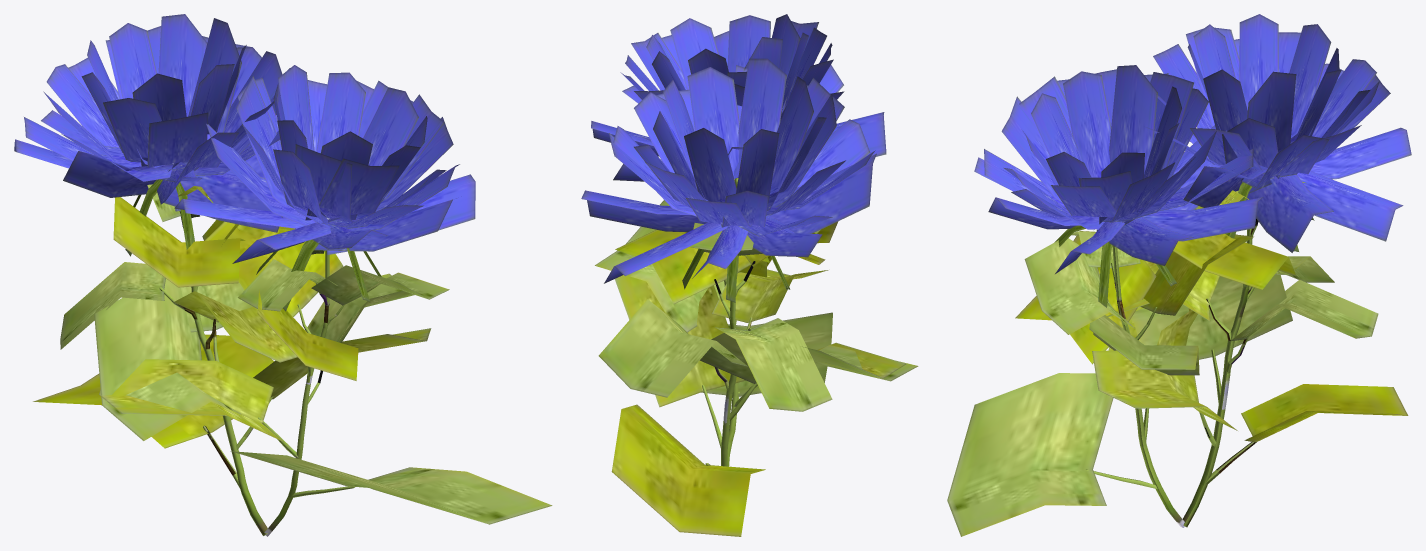
Rendered from blue_flower2.FBX.
3 views of the same model, side by side, from view 1: azimuth 30°, elevation 25°; view 2: azimuth 150°, elevation 25°; view 3: azimuth 270°, elevation 25° (orthographic). The views are drawn at different scales.
Parts seen in each view (by area): view 1: White_Fl002; view 2: White_Fl002; view 3: White_Fl002.
Part boxes in pixels (<box>): White_Fl002: <box>14,14,552,536</box>; White_Fl002: <box>581,14,918,536</box>; White_Fl002: <box>947,14,1411,536</box>.
Size of the model in its own units: 0.3138 by 0.4069 by 0.371.
